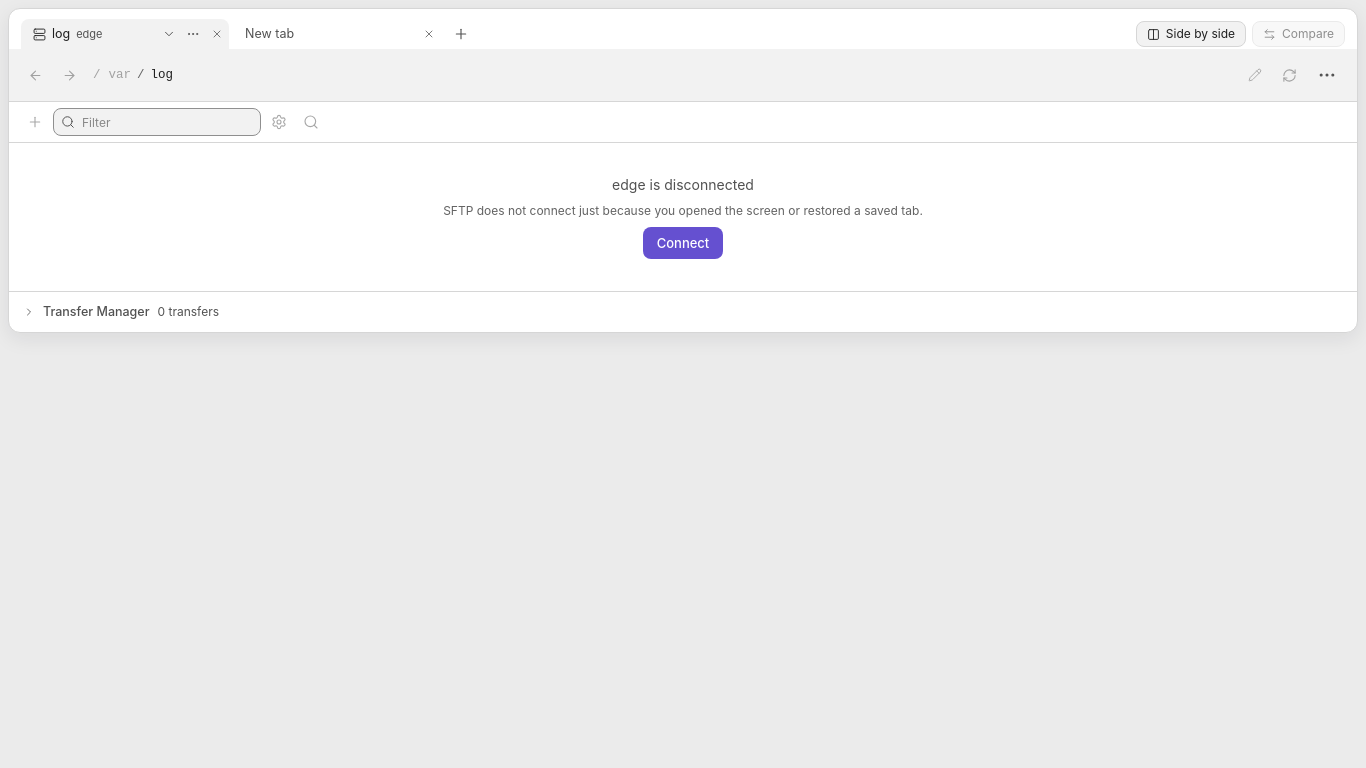
it: SFTP tabs › compares two tabs of one pane from the section bar once both have a host
Expected: the button with aria-label "Compare directories" is disabled, top-left (1252, 21), bottom-right (1345, 47)
Click the tab "New tab": point(325, 34) top-left (233, 19), bottom-right (417, 49)
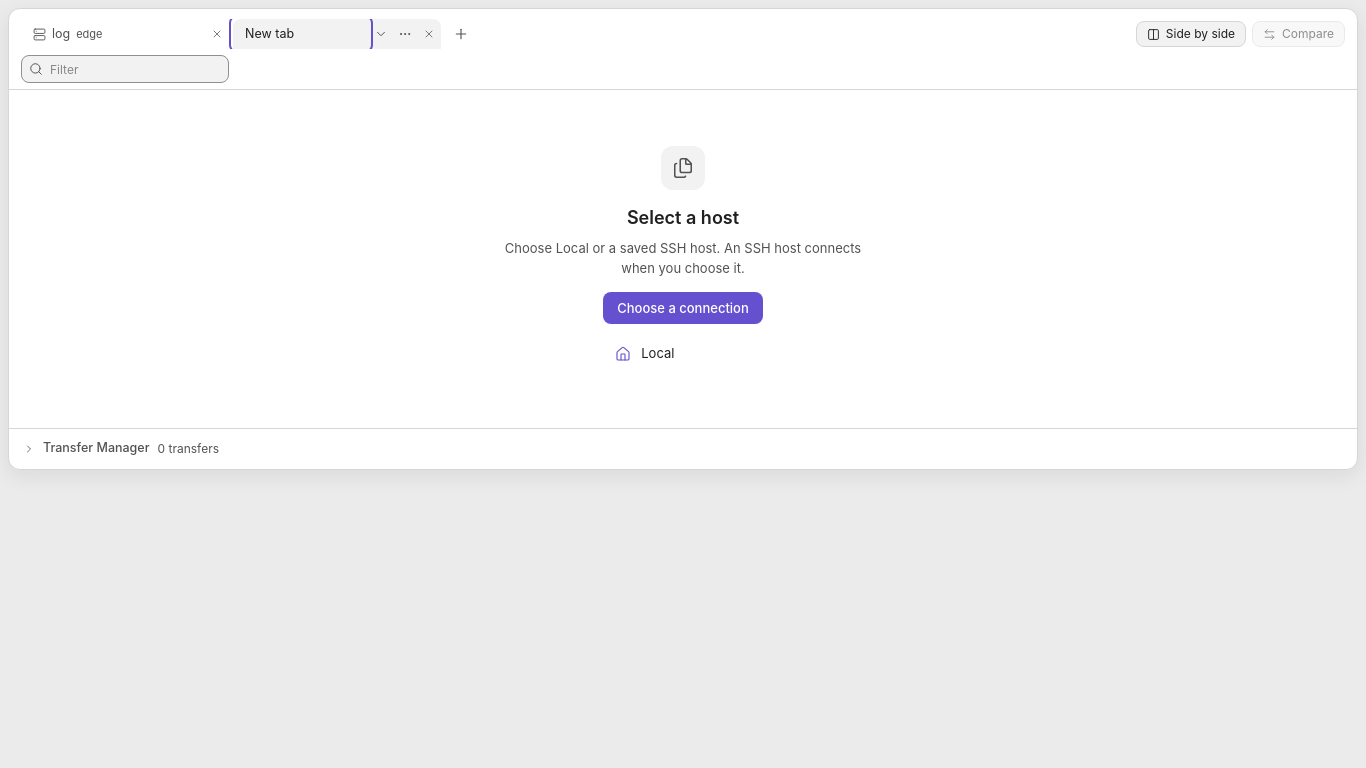
Click the button named "Host": point(381, 34) top-left (369, 19), bottom-right (393, 49)
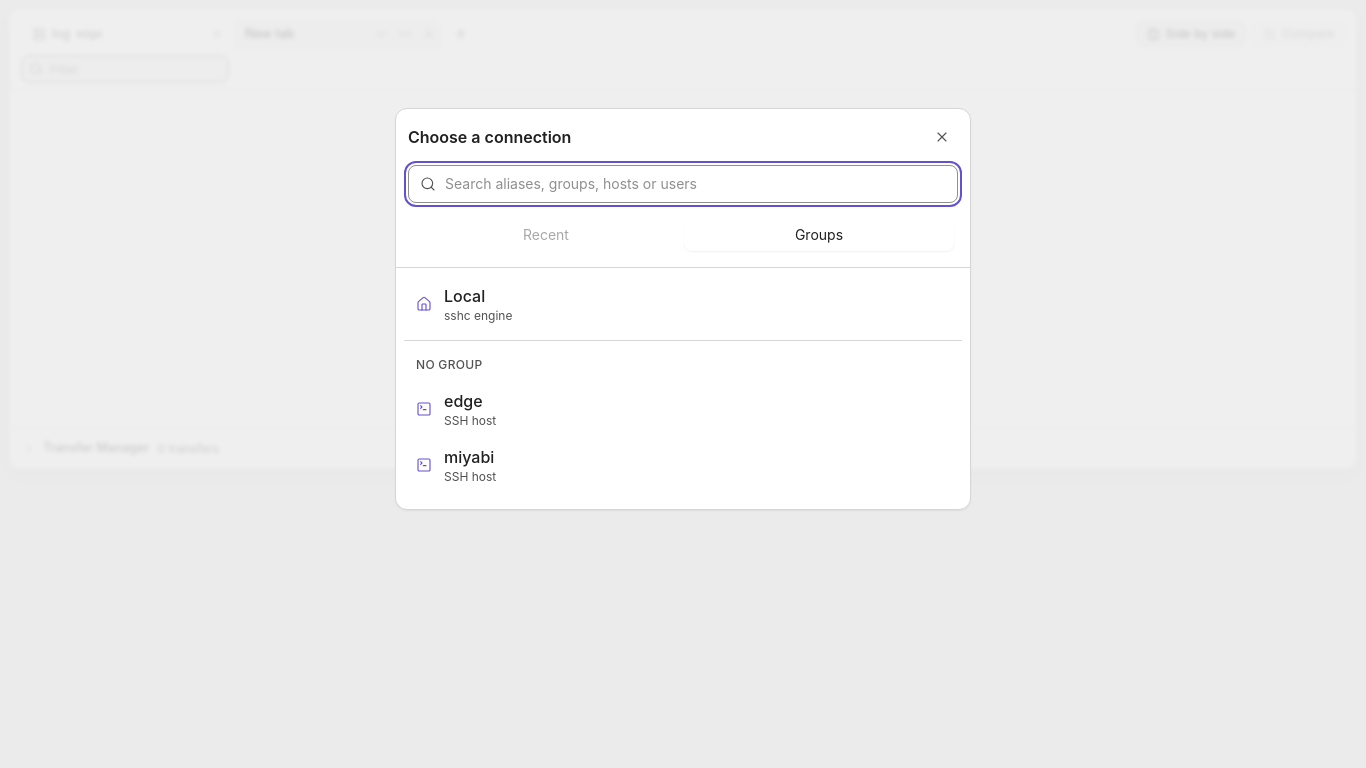
Click the button "miyabi SSH host": point(469, 457) top-left (404, 436), bottom-right (962, 492)
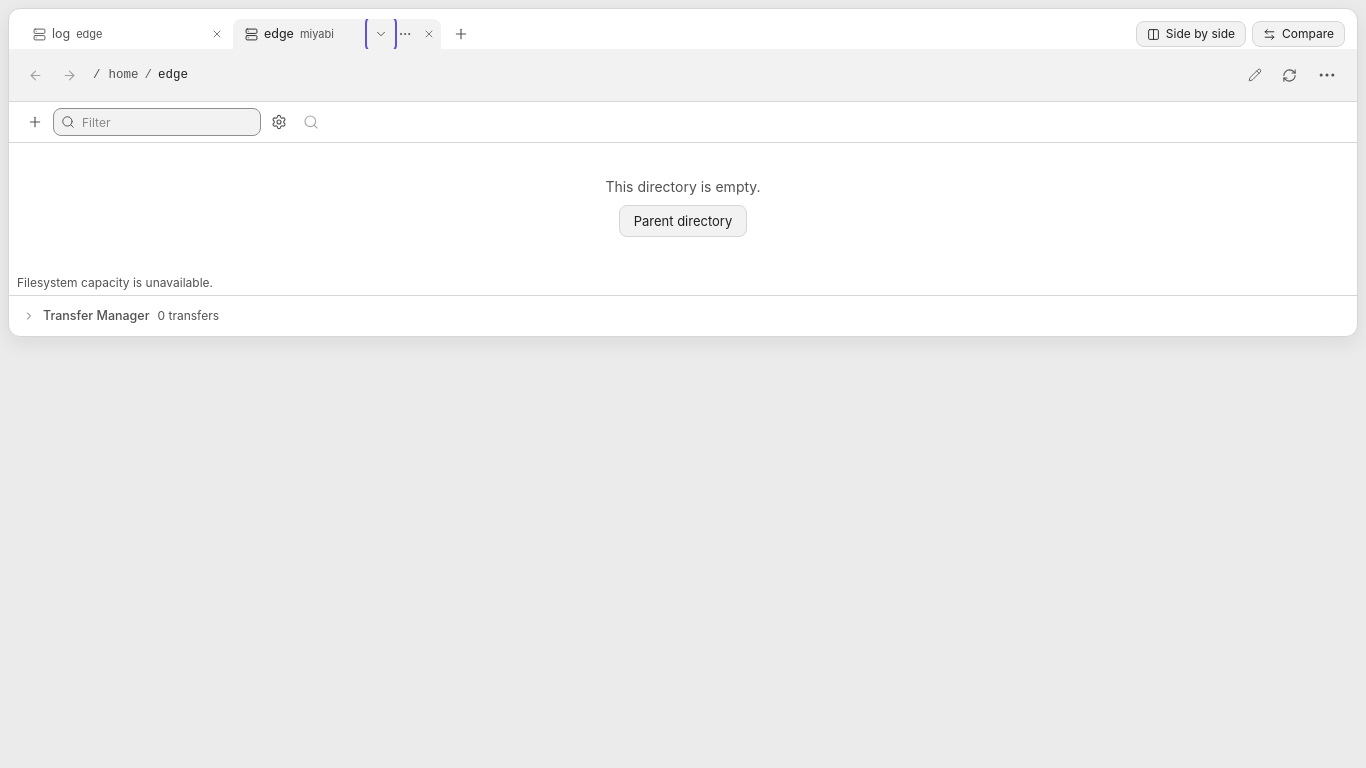
Now the button with aria-label "Compare directories" is enabled
Click the button with aria-label "Compare directories": point(1298, 34) top-left (1252, 21), bottom-right (1345, 47)
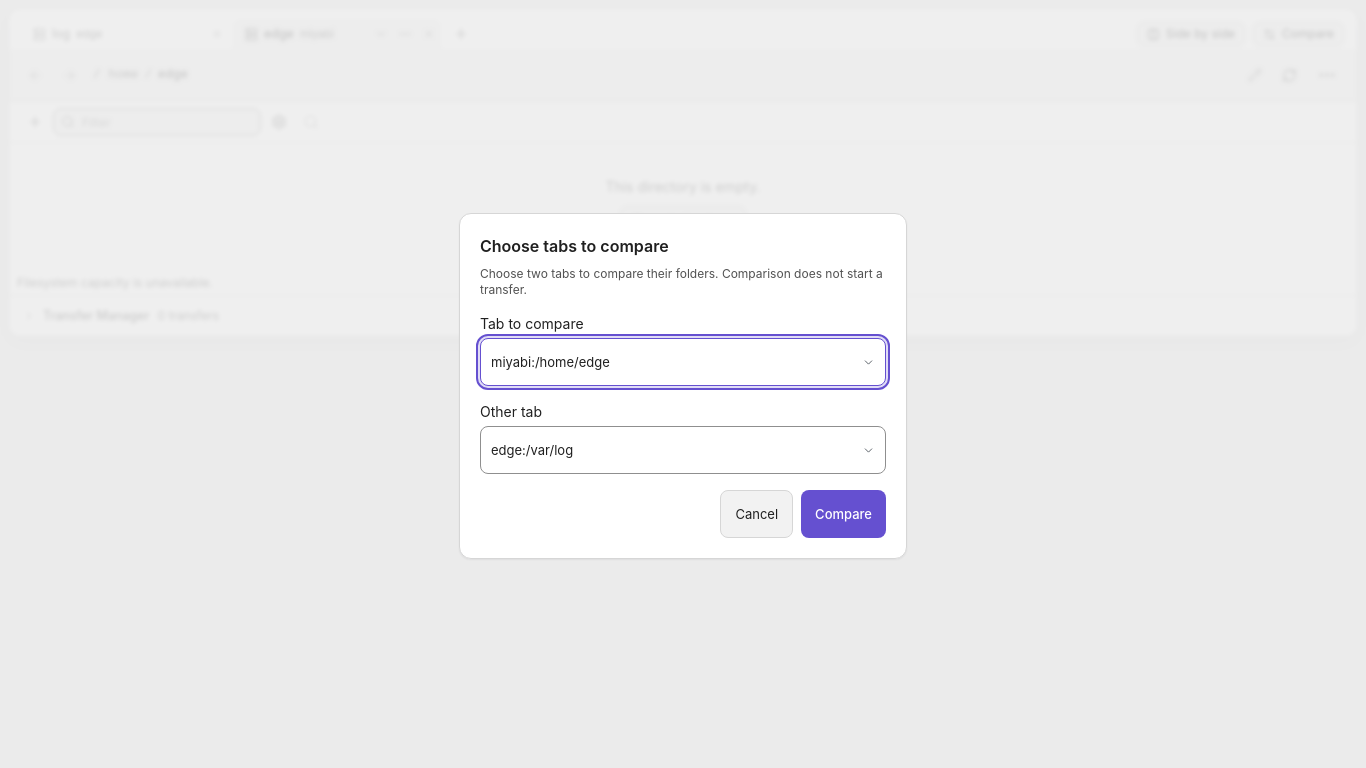
Now the dialog "Choose tabs to compare" is shown, box top-left (459, 213), bottom-right (907, 559)
